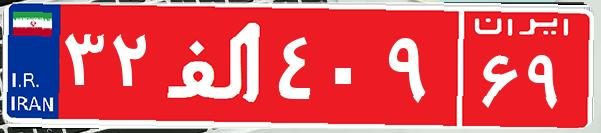0: (330, 28, 385, 110)
2: (110, 28, 158, 105)
3: (57, 26, 110, 107)
4: (273, 28, 330, 110)
6: (475, 38, 525, 113)
9: (385, 28, 445, 110), (525, 38, 570, 115)
الف: (158, 15, 273, 115)
